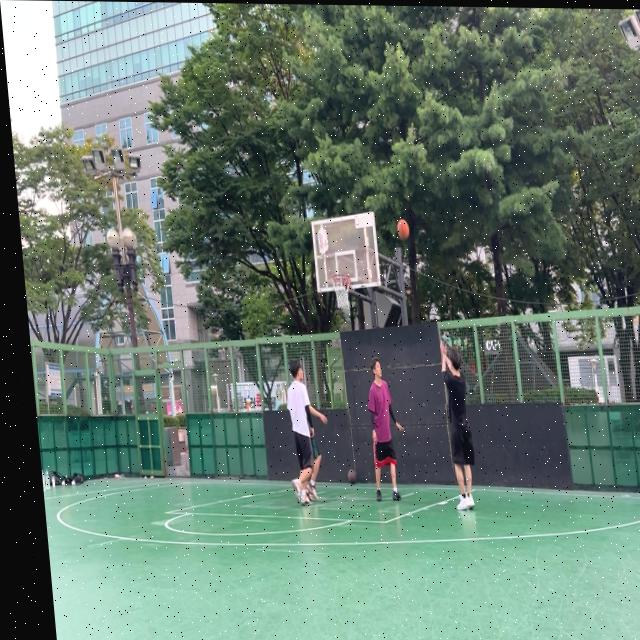basketball: (397, 219, 410, 241), (347, 468, 358, 485)
hoop: (329, 273, 354, 310)
